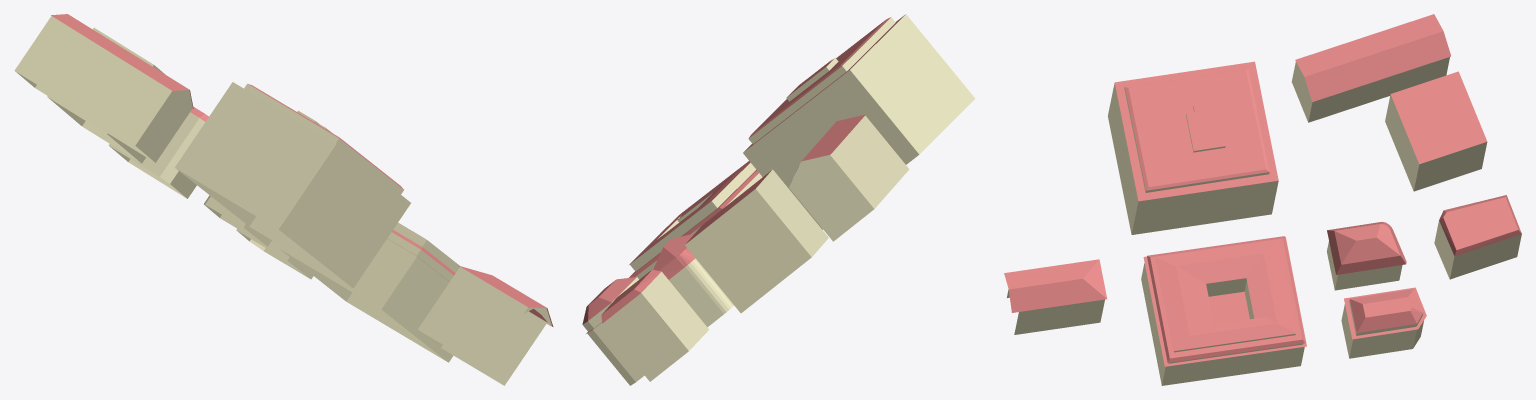
Rendered from tile_055.glb.
3 renders of one model, left to right at view 1: azimuth 30°, elevation 25°; view 2: azimuth 150°, elevation 25°; view 3: azimuth 270°, elevation 25°, orthographic. The views are drawn at different scales.
Parts seen in each view (by area): view 1: Batched_Building_ID_9189680B-379B-4CF0-8C46-04C1A49754D4; view 2: Batched_Building_ID_9189680B-379B-4CF0-8C46-04C1A49754D4; view 3: Batched_Building_ID_9189680B-379B-4CF0-8C46-04C1A49754D4.
Boxes of the visible parts, x1,y1,x2,y2 form: Batched_Building_ID_9189680B-379B-4CF0-8C46-04C1A49754D4: (14,14,553,385); Batched_Building_ID_9189680B-379B-4CF0-8C46-04C1A49754D4: (582,14,975,385); Batched_Building_ID_9189680B-379B-4CF0-8C46-04C1A49754D4: (1004,14,1521,385).
Size of the model in its own units: 106 by 90.89 by 161.
